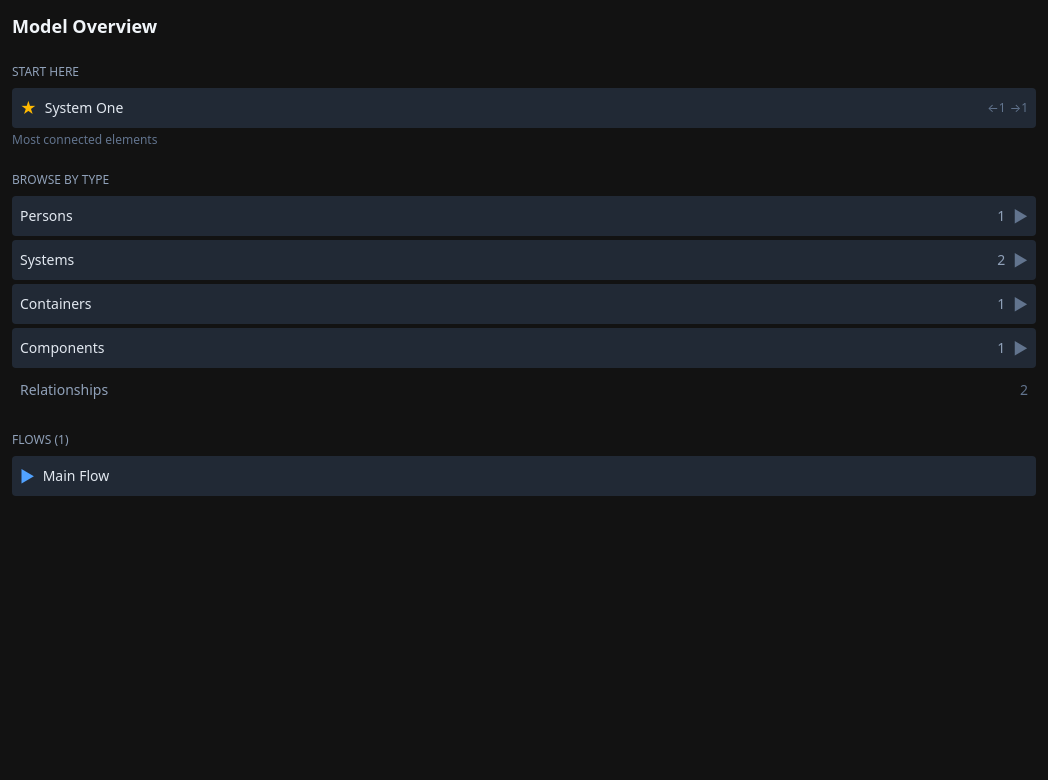
Test: StartHere › should expand containers type
The image size is (1048, 780).
Step 1. Click the button "containers 1 ▶" → point(56, 304), box [12, 284, 1036, 324]
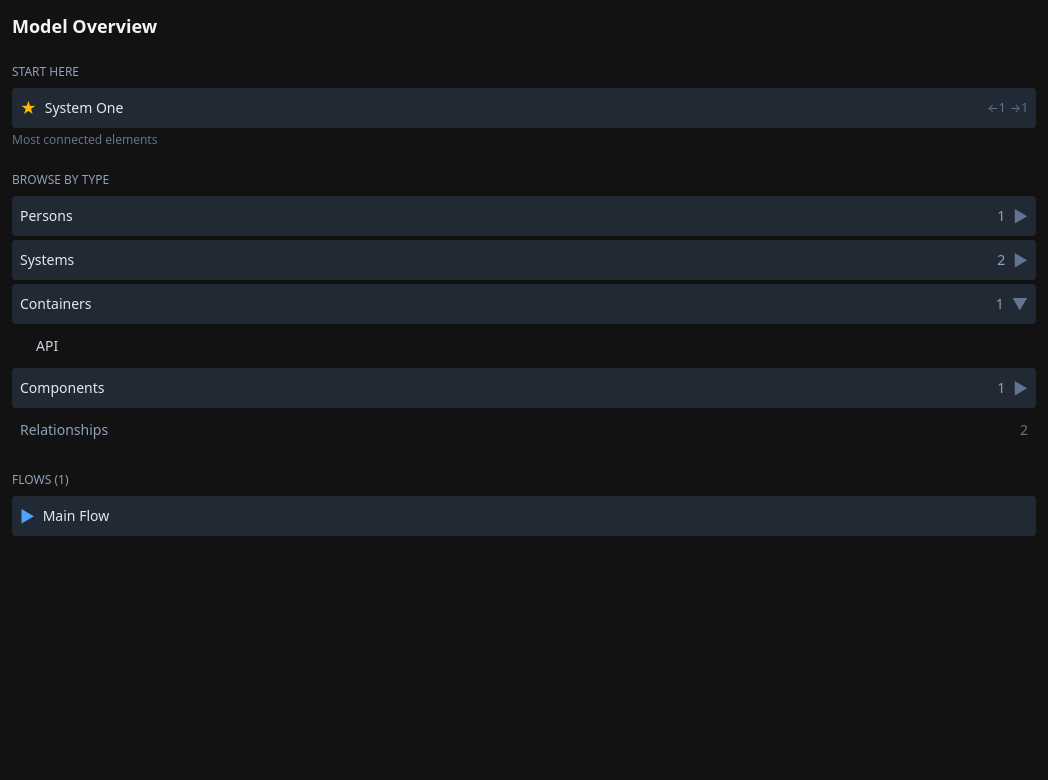
Expected: the button "API" is shown, [28, 328, 1036, 364]
